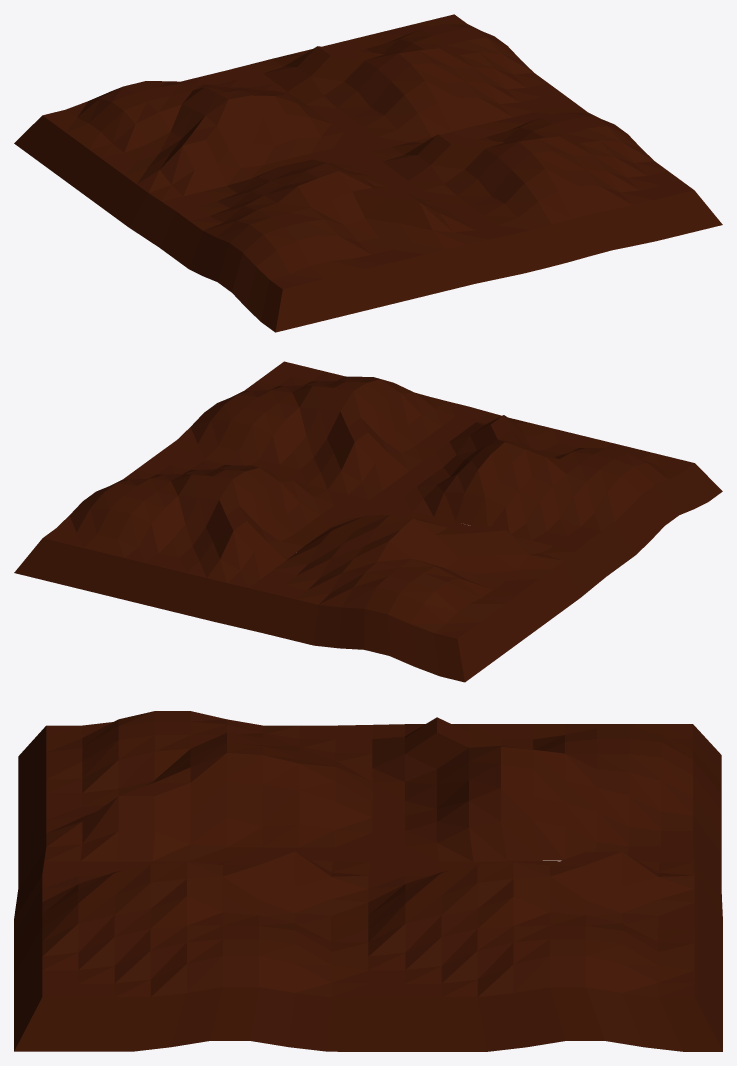
The model's file is mantañas.FBX.
3 views of the same model, one above another, from view 1: azimuth 30°, elevation 25°; view 2: azimuth 150°, elevation 25°; view 3: azimuth 270°, elevation 25° (orthographic). The views are drawn at different scales.
Visible parts, largest first — view 1: Plane002; view 2: Plane002; view 3: Plane002.
Part boxes in pixels (x1,y1,x2,y2): Plane002: (14,14,722,332); Plane002: (14,361,722,682); Plane002: (14,711,722,1051).
Bounding box in the file's own units: 233 × 35.31 × 235.
